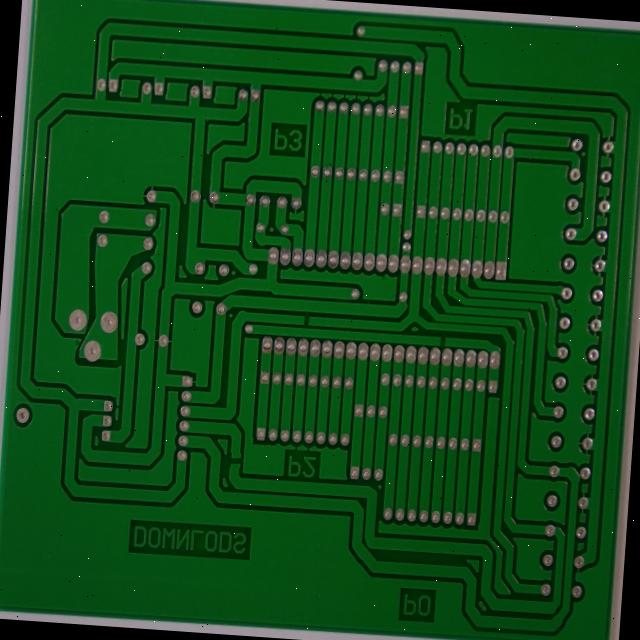open_circuit: (225, 452, 243, 468), (299, 311, 314, 327), (436, 333, 450, 347)
